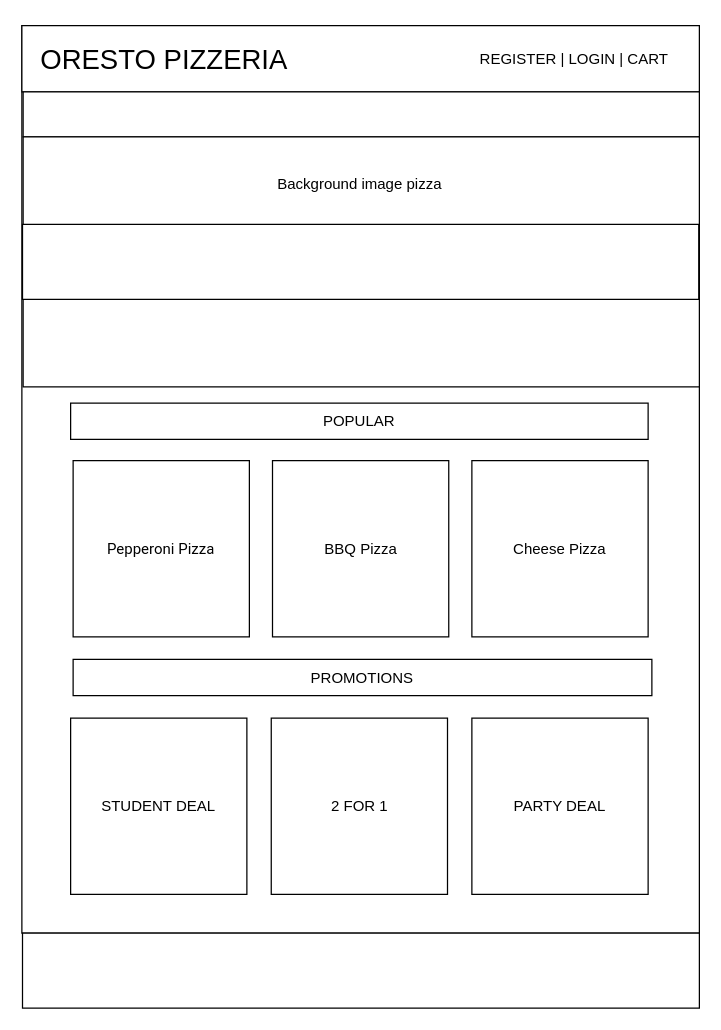
Some shapes in this 721 by 1030 pixel diagram are drawn without their labels. Here are the shapes that lost their labels. From the top down, the box of each, then its label:
(22, 91, 699, 137): MENU | DEALS
(21, 223, 699, 299): BEST QUALITY PIZZA IN NAVAN
(21, 932, 699, 1008): ORESTO PIZZERIA @ ALL RIGHTS RESERVED 2026
